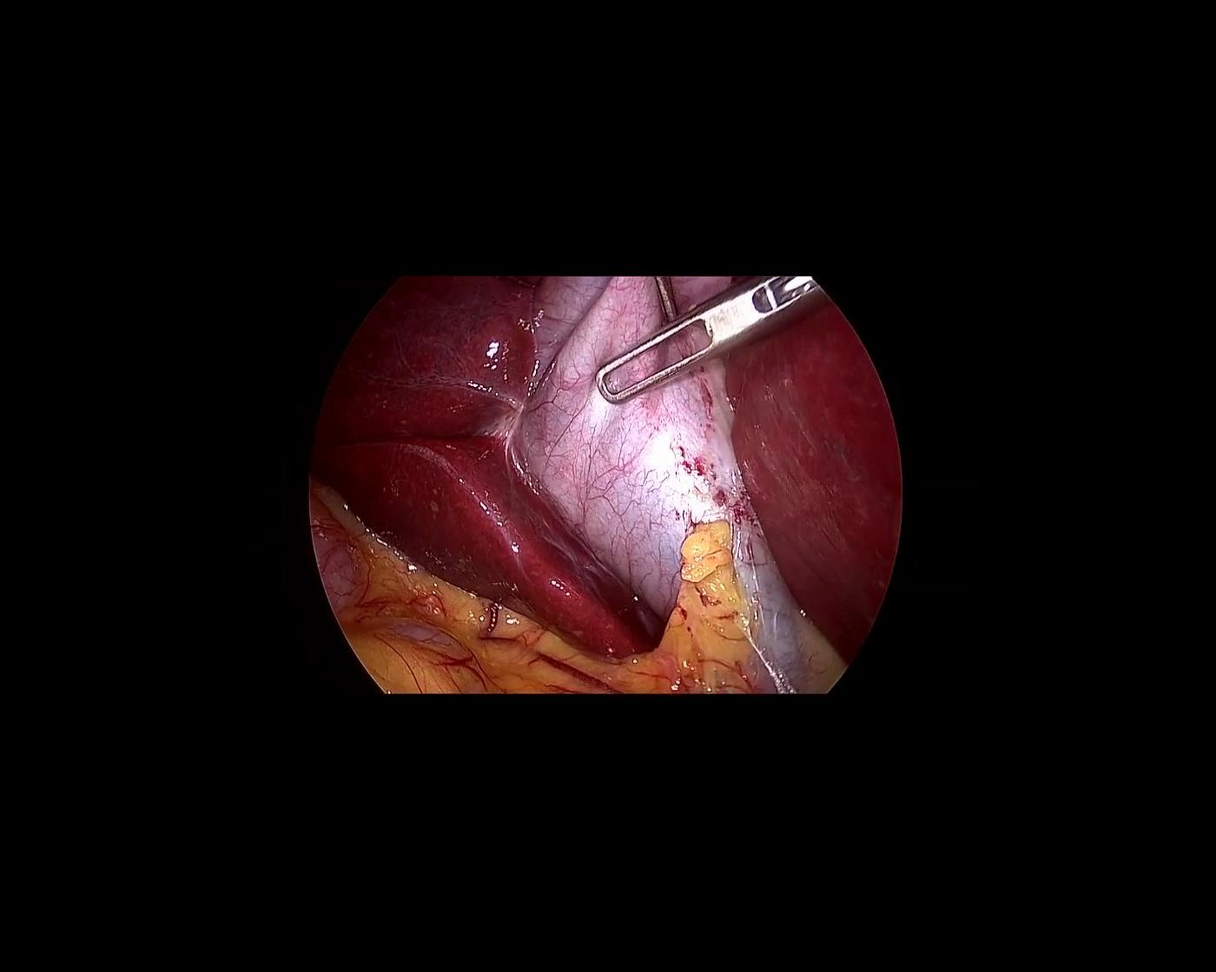Forceps: (580, 251, 829, 414)
Gallbladder: (494, 258, 766, 641)
Liver: (267, 240, 655, 725), (683, 286, 974, 670)
